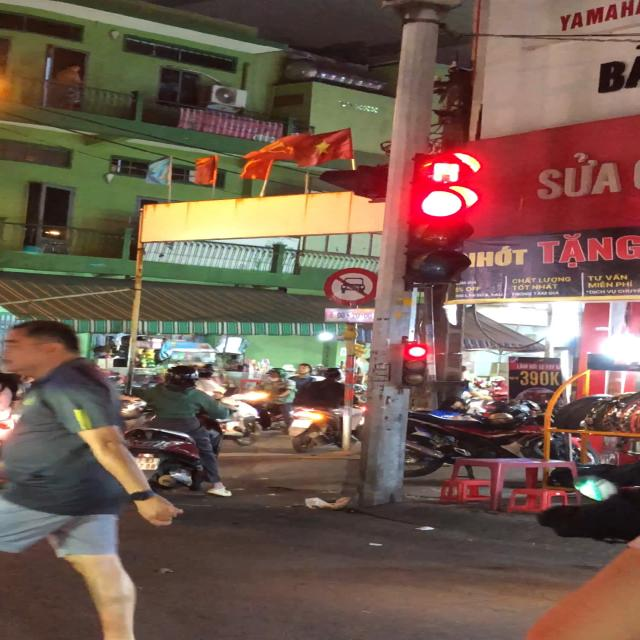Bien bao cam xe oto: (321, 264, 380, 308)
